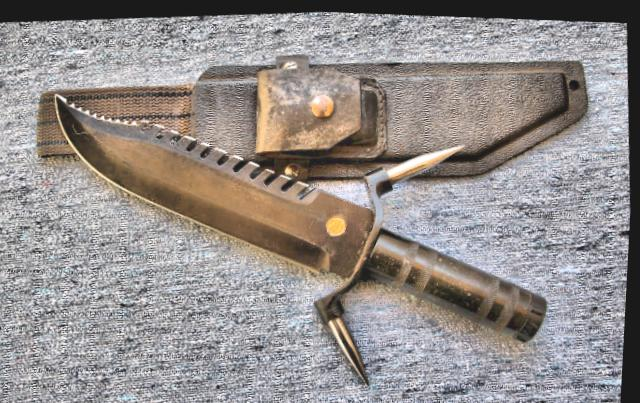knife: (41, 66, 372, 285)
